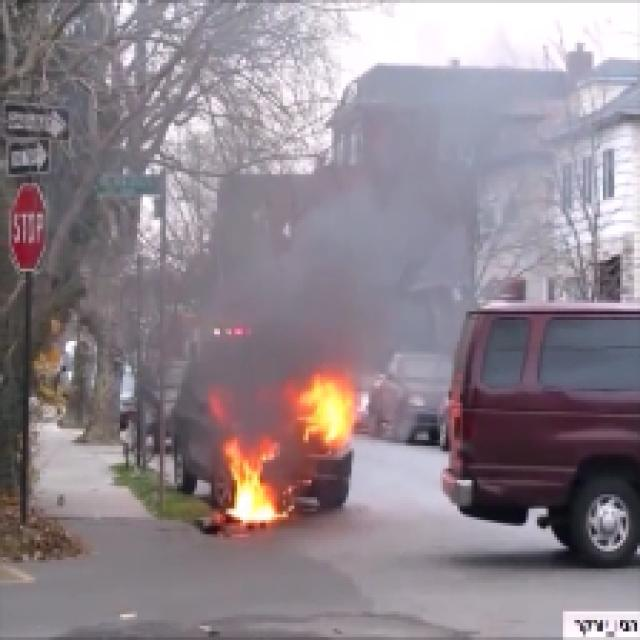fire: (218, 438, 280, 524), (296, 371, 364, 449)
smoke: (219, 162, 456, 356)
